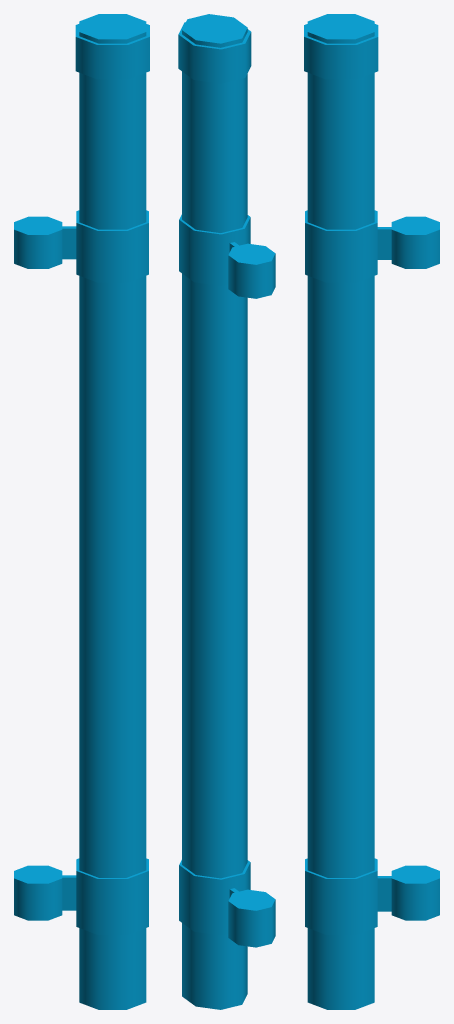
Rendered from Fence_01_Lod1.fbx.
3 views of the same model, side by side, from view 1: azimuth 90°, elevation 25°; view 2: azimuth 210°, elevation 25°; view 3: azimuth 270°, elevation 25° (orthographic).
Parts seen in each view (by area): view 1: Fence_01_Lod1; view 2: Fence_01_Lod1; view 3: Fence_01_Lod1.
Part boxes in pixels (left/top/right/bottom): Fence_01_Lod1: left=14, top=14, right=149, bottom=1009; Fence_01_Lod1: left=178, top=14, right=275, bottom=1009; Fence_01_Lod1: left=304, top=14, right=439, bottom=1009.
Size of the model in its own units: 14.47 by 232 by 29.4.
